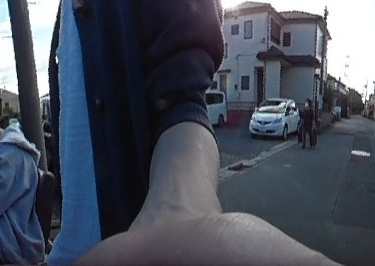person: (300, 97, 315, 147)
